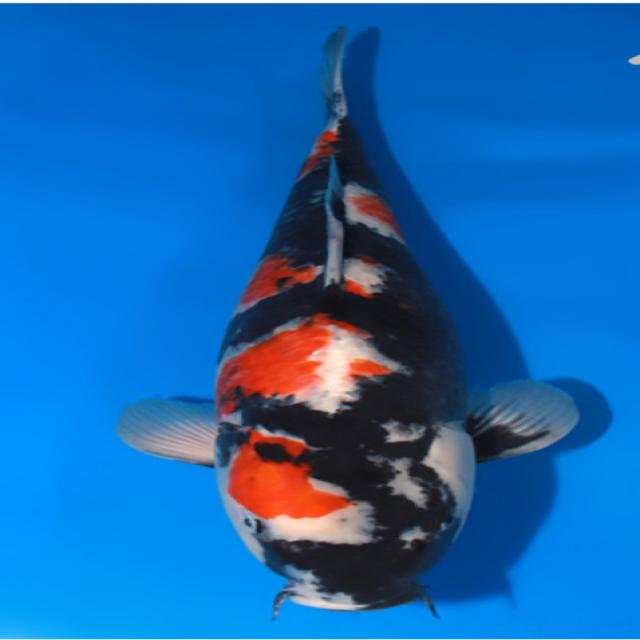Showa: (114, 24, 580, 622)
